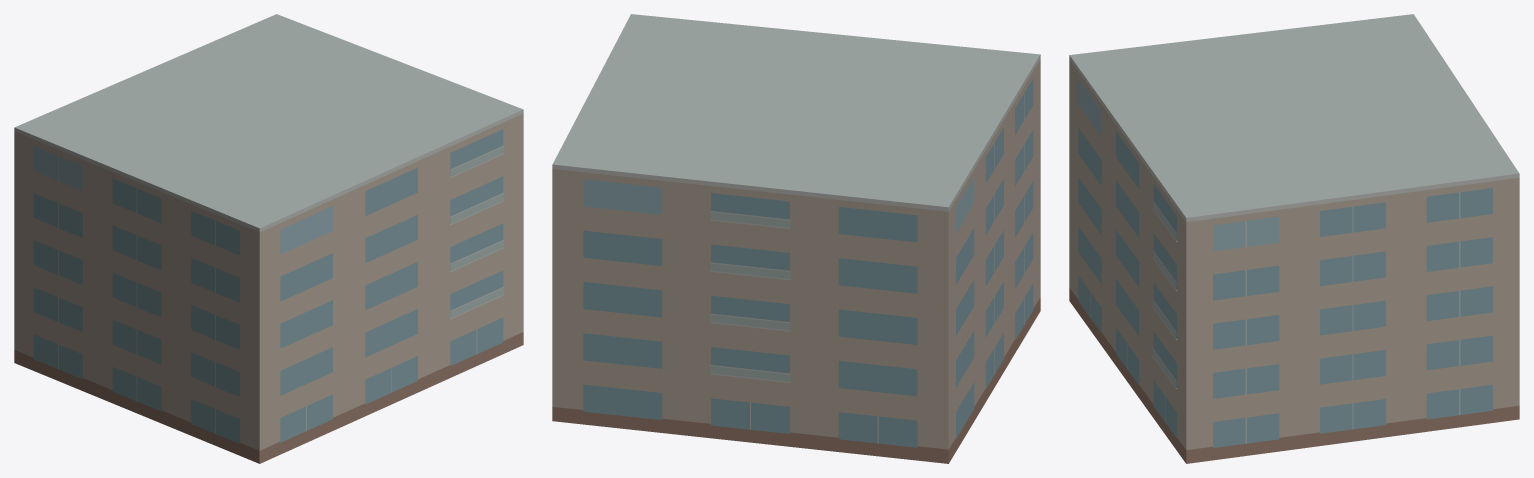
Rendered from survey-upis-32737196.glb.
3 renders of one model, left to right at view 1: azimuth 30°, elevation 25°; view 2: azimuth 150°, elevation 25°; view 3: azimuth 270°, elevation 25°, orthographic. The views are drawn at different scales.
Parts seen in each view (by area): view 1: survey-upis-32737196.tmp; view 2: survey-upis-32737196.tmp; view 3: survey-upis-32737196.tmp.
Boxes of the visible parts, x1=… form: survey-upis-32737196.tmp: x1=14, y1=14, x2=523, y2=463; survey-upis-32737196.tmp: x1=552, y1=14, x2=1040, y2=463; survey-upis-32737196.tmp: x1=1069, y1=14, x2=1519, y2=463.
Bounding box in the file's own units: 25.45 × 14.3 × 23.73.
